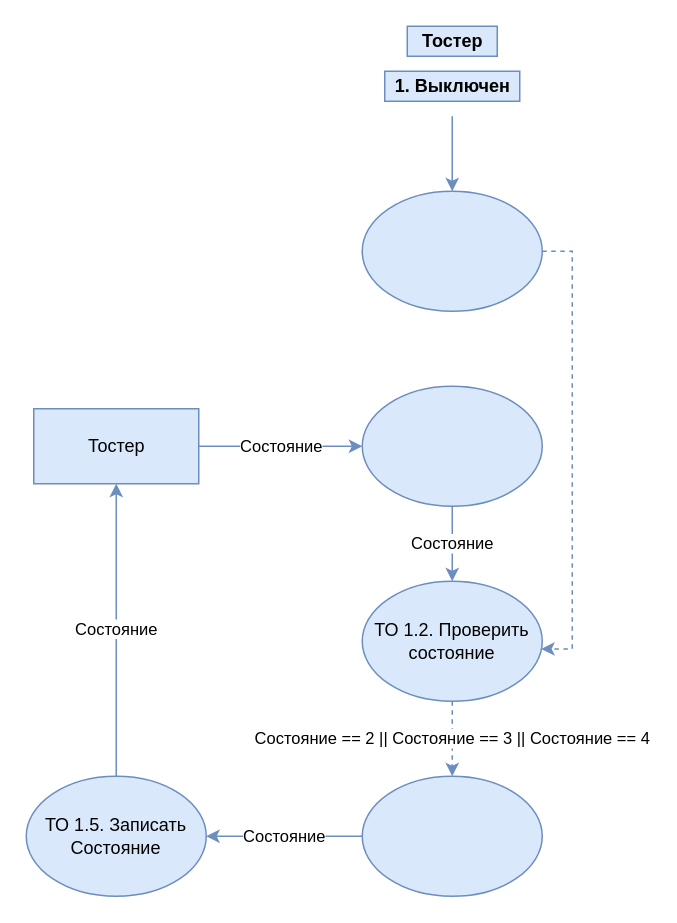
Image size: 677x923. Some labels were removed from this diagram. The shapes that lost their labels are listed below. From the top down, each one's centre as x and y in pixels, then its label:
At [451,250]: "ТO 1.0. Принять событие".
At [451,445]: "ТО 1.1. Считать состояние".
At [451,835]: "ТО 1.3. Изменить Состояние Состояние = 1".
